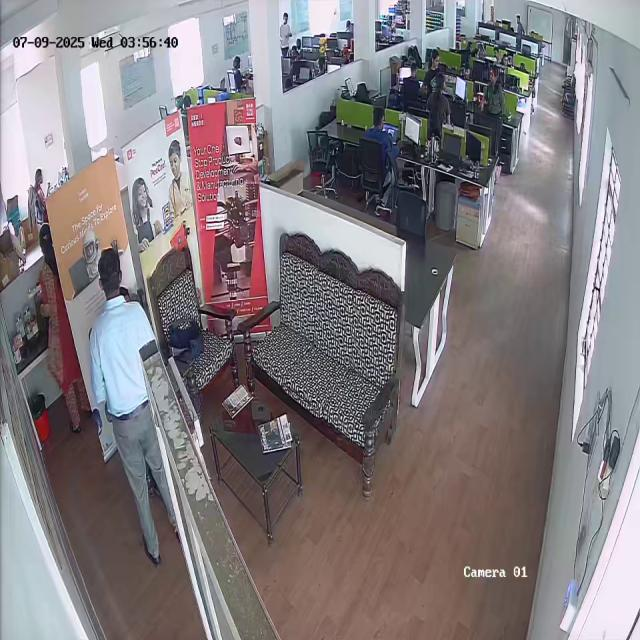person: (91, 244, 182, 564), (29, 224, 86, 435), (356, 106, 395, 215), (486, 66, 508, 166), (425, 74, 452, 145), (30, 166, 54, 207)
